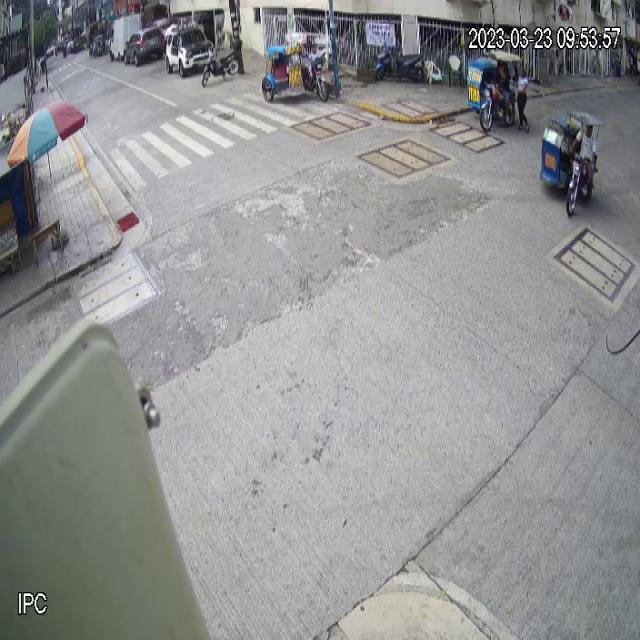Tricycle: (534, 102, 603, 216), (262, 32, 329, 102), (466, 52, 522, 132)
